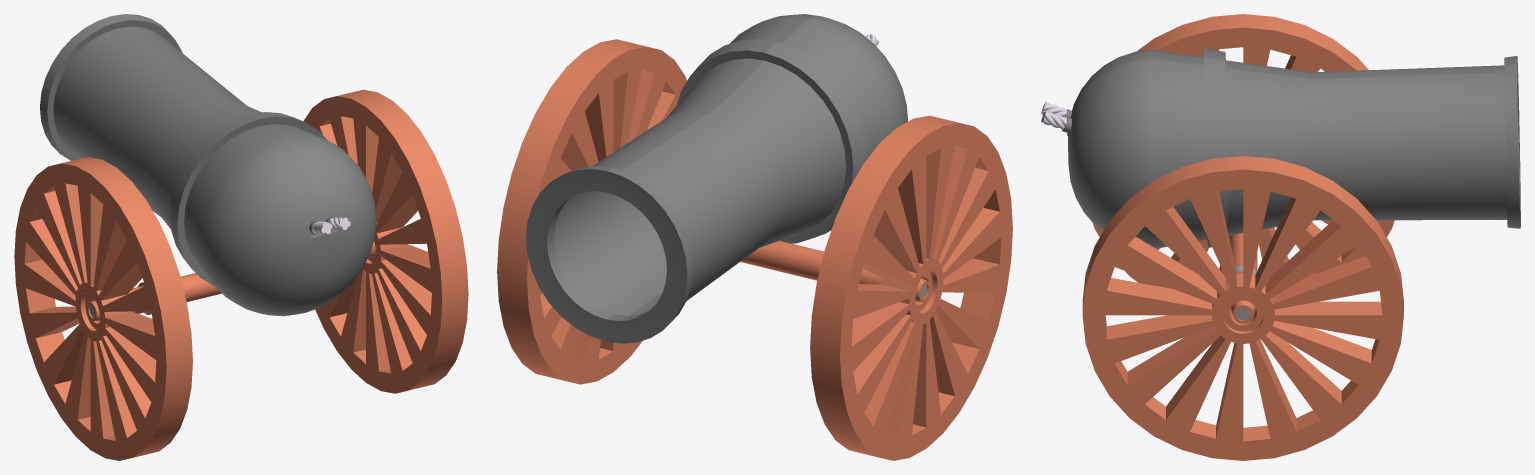
File: Cannon.fbx
3 views of the same model, side by side, from view 1: azimuth 30°, elevation 25°; view 2: azimuth 150°, elevation 25°; view 3: azimuth 270°, elevation 25° (orthographic). The views are drawn at different scales.
Parts seen in each view (by area): view 1: Cylinder; view 2: Cylinder; view 3: Cylinder.
Part boxes in pixels (x1=…): Cylinder: x1=14, y1=14, x2=468, y2=460; Cylinder: x1=497, y1=14, x2=1012, y2=460; Cylinder: x1=1041, y1=14, x2=1520, y2=460.
Size of the model in its own units: 105 by 102 by 137.
